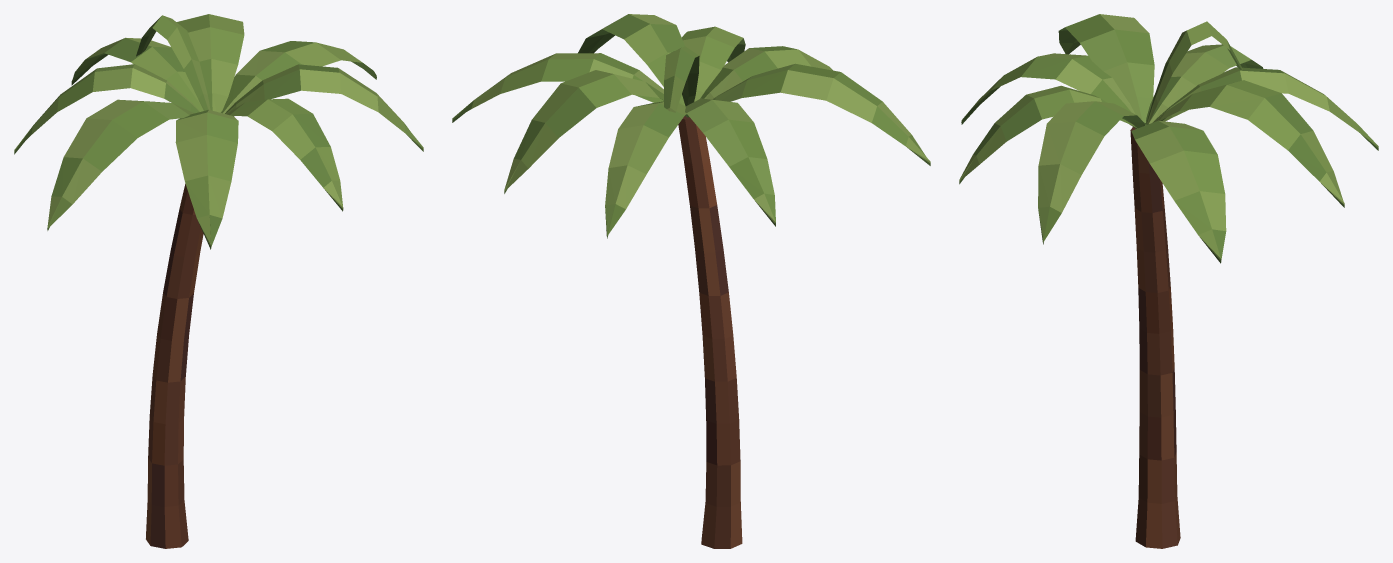
The model's file is t01_seabreeze_tall.glb.
3 renders of one model, left to right at view 1: azimuth 30°, elevation 25°; view 2: azimuth 150°, elevation 25°; view 3: azimuth 270°, elevation 25°, orthographic. The views are drawn at different scales.
Parts seen in each view (by area): view 1: T01_palm; view 2: T01_palm; view 3: T01_palm.
Part boxes in pixels (x1,y1,x2,y2): T01_palm: (14,14,423,548); T01_palm: (452,14,930,548); T01_palm: (959,14,1378,548).
Bounding box in the file's own units: 2.92 × 3.48 × 2.51.
